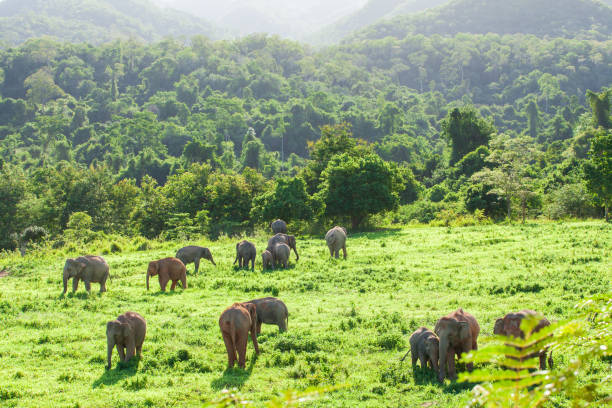Adult Elephant: (494, 307, 569, 388), (55, 249, 120, 308), (431, 306, 487, 374), (104, 313, 158, 374), (219, 295, 256, 379), (243, 285, 298, 340), (170, 242, 213, 277), (322, 226, 361, 264), (268, 231, 298, 272)
Baby Elephant: (397, 325, 443, 378), (140, 259, 193, 297), (228, 233, 259, 271), (261, 252, 277, 270)
